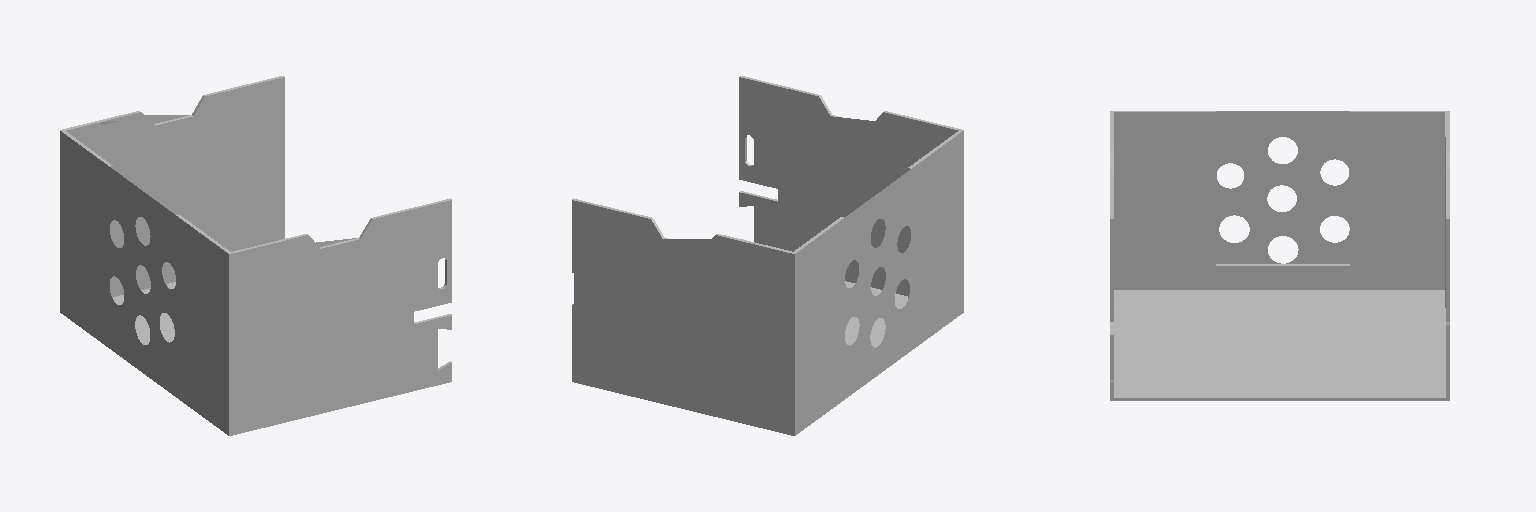
File: Liquid Galaxy Voice Sides Object.obj
3 views of the same model, side by side, from view 1: azimuth 30°, elevation 25°; view 2: azimuth 150°, elevation 25°; view 3: azimuth 270°, elevation 25° (orthographic).
Parts seen in each view (by area): view 1: Mesh1 Model; view 2: Mesh1 Model; view 3: Mesh1 Model.
Part boxes in pixels (x1,y1,x2,y2): Mesh1 Model: (60,76,451,435); Mesh1 Model: (572,76,963,435); Mesh1 Model: (1110,111,1449,400).
Size of the model in its own units: 211 by 165 by 278.